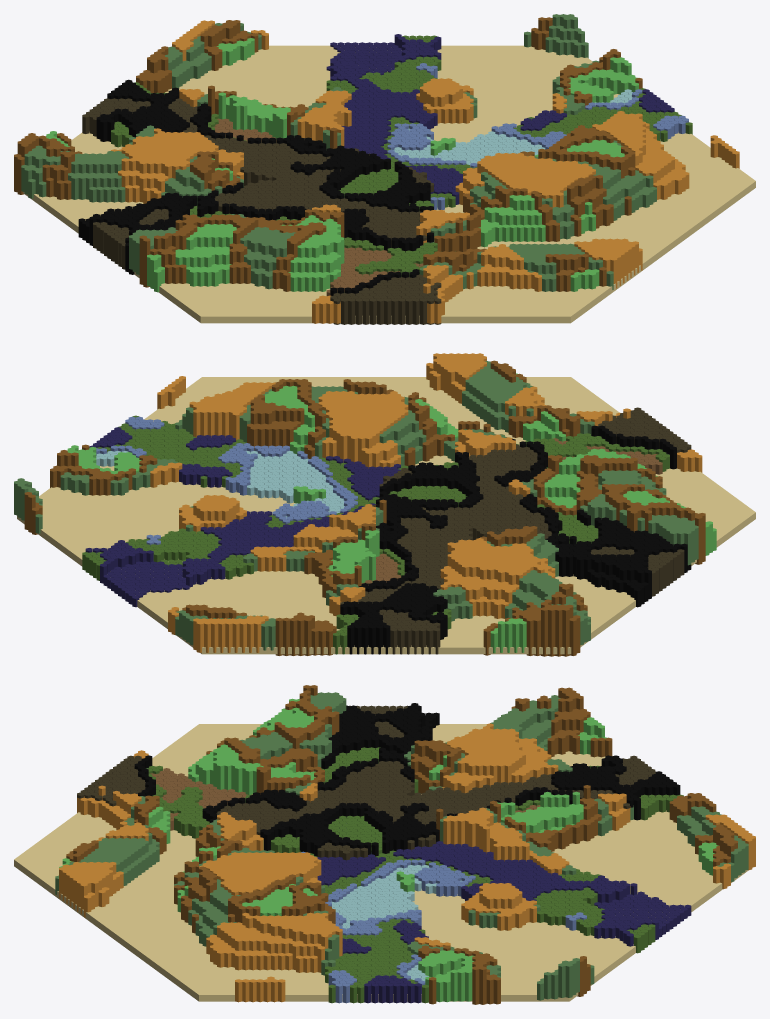
File: 0006_tile_1111002.fbx
3 renders of one model, top to bottom at view 1: azimuth 30°, elevation 25°; view 2: azimuth 150°, elevation 25°; view 3: azimuth 270°, elevation 25°, orthographic.
Visible parts, largest first — view 1: Plane; view 2: Plane; view 3: Plane.
Part boxes in pixels (x1,y1,x2,y2): Plane: [14, 14, 755, 324]; Plane: [14, 353, 755, 656]; Plane: [14, 685, 755, 1004].
Size of the model in its own units: 1008 by 78.92 by 1152.
